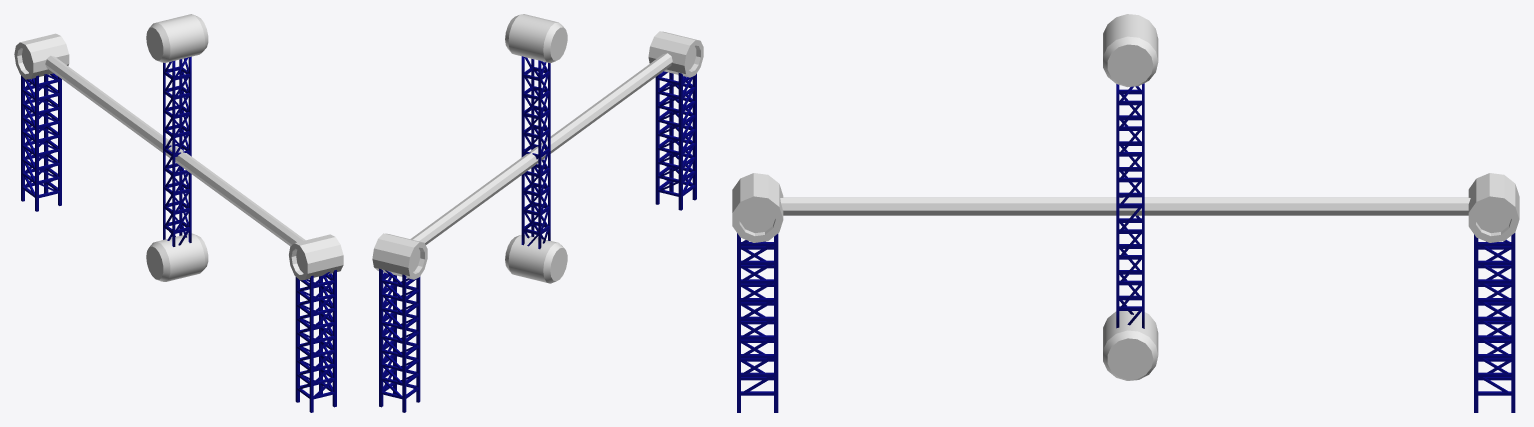
File: spin hurdle.fbx
3 renders of one model, left to right at view 1: azimuth 30°, elevation 25°; view 2: azimuth 150°, elevation 25°; view 3: azimuth 270°, elevation 25°, orthographic. The views are drawn at different scales.
Visible parts, largest first — view 1: Starting Line.005, Cylinder.013, Starting Line.003, Cylinder.011, Cylinder.012, Cylinder.008; view 2: Starting Line.005, Cylinder.013, Starting Line.003, Cylinder.011, Cylinder.012, Cylinder.008; view 3: Cylinder.011, Starting Line.005, Cylinder.013, Starting Line.003, Cylinder.012, Cylinder.008.
Part boxes in pixels (<box>): Starting Line.005: <box>21,73,336,412</box>; Cylinder.013: <box>146,14,208,281</box>; Starting Line.003: <box>163,56,191,246</box>; Cylinder.011: <box>45,55,305,246</box>; Cylinder.012: <box>20,33,343,279</box>; Cylinder.008: <box>14,42,307,280</box>; Starting Line.005: <box>379,71,696,412</box>; Cylinder.013: <box>505,14,567,283</box>; Starting Line.003: <box>521,56,550,249</box>; Cylinder.011: <box>410,53,672,244</box>; Cylinder.012: <box>372,31,699,279</box>; Cylinder.008: <box>408,40,703,279</box>; Cylinder.011: <box>780,197,1470,215</box>; Starting Line.005: <box>737,233,1515,412</box>; Cylinder.013: <box>1103,14,1158,380</box>; Starting Line.003: <box>1116,83,1144,328</box>; Cylinder.012: <box>732,173,1519,232</box>; Cylinder.008: <box>732,196,1519,242</box>.
Bounding box in the file's own units: 390 × 2340 × 4400.
